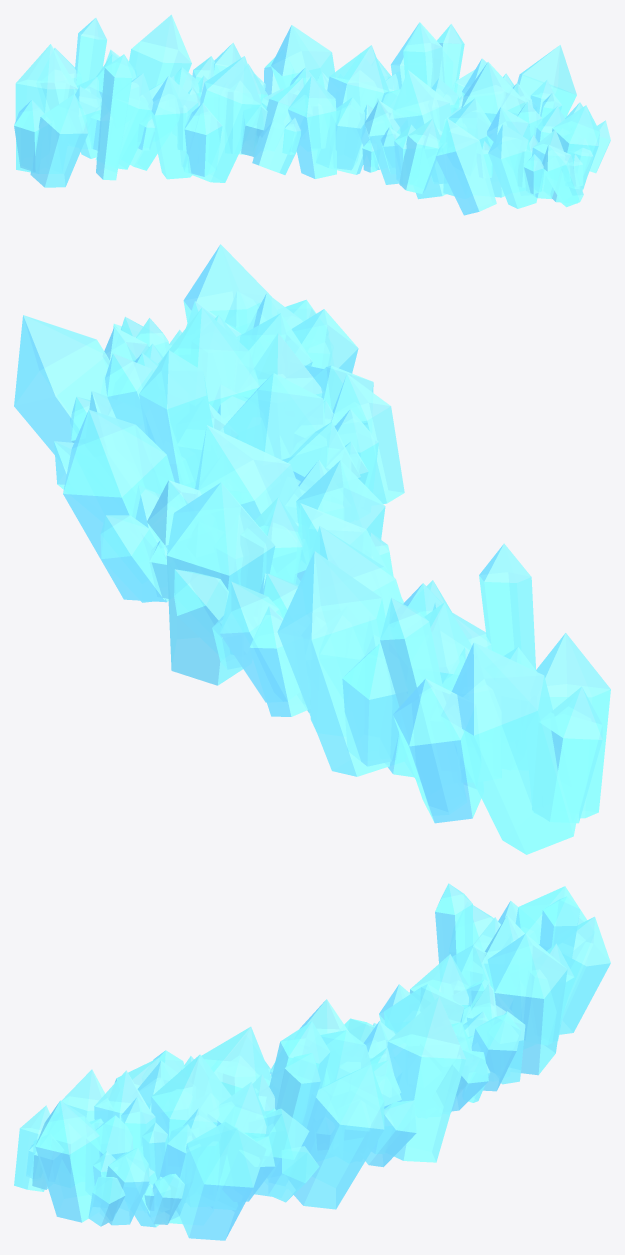
Rendered from Kristalle_7.fbx.
3 renders of one model, top to bottom at view 1: azimuth 30°, elevation 25°; view 2: azimuth 150°, elevation 25°; view 3: azimuth 270°, elevation 25°, orthographic. The views are drawn at different scales.
Visible parts, largest first — view 1: Steinkliff.007; view 2: Steinkliff.007; view 3: Steinkliff.007.
Part boxes in pixels (box(x1,y1,x2,y2)): Steinkliff.007: box(14, 14, 610, 215); Steinkliff.007: box(14, 244, 610, 854); Steinkliff.007: box(14, 883, 610, 1240).
Bounding box in the file's own units: 380 × 122 × 346.
